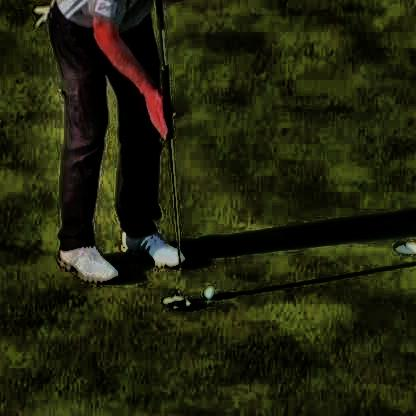golfball: (200, 281, 213, 297)
